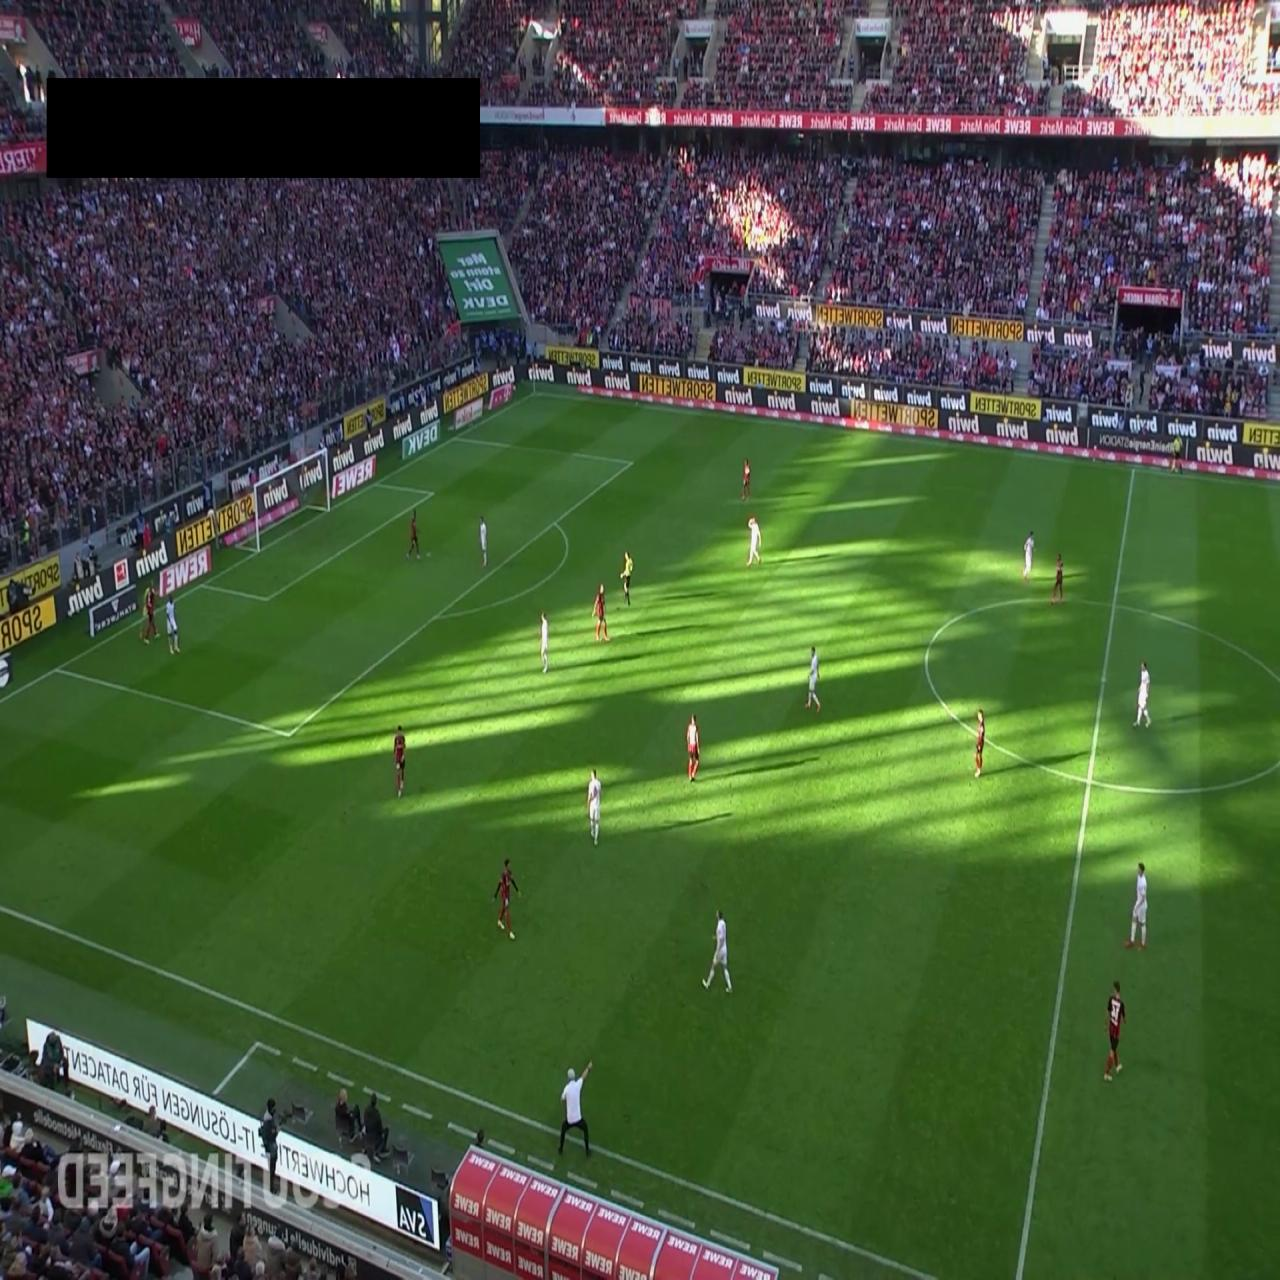player: (701, 908, 732, 993), (1103, 980, 1127, 1081), (494, 857, 521, 940), (1125, 860, 1148, 950), (1133, 659, 1151, 728), (587, 768, 602, 846), (140, 586, 160, 644), (806, 645, 821, 712), (593, 583, 610, 642), (393, 723, 406, 799), (686, 712, 700, 782), (165, 593, 180, 654), (746, 514, 762, 568), (974, 709, 986, 777), (1050, 551, 1064, 605), (406, 510, 421, 560), (540, 610, 550, 674), (1022, 530, 1034, 583), (479, 513, 487, 568), (740, 459, 750, 500)
referee: (620, 550, 634, 606), (1170, 431, 1185, 481)
